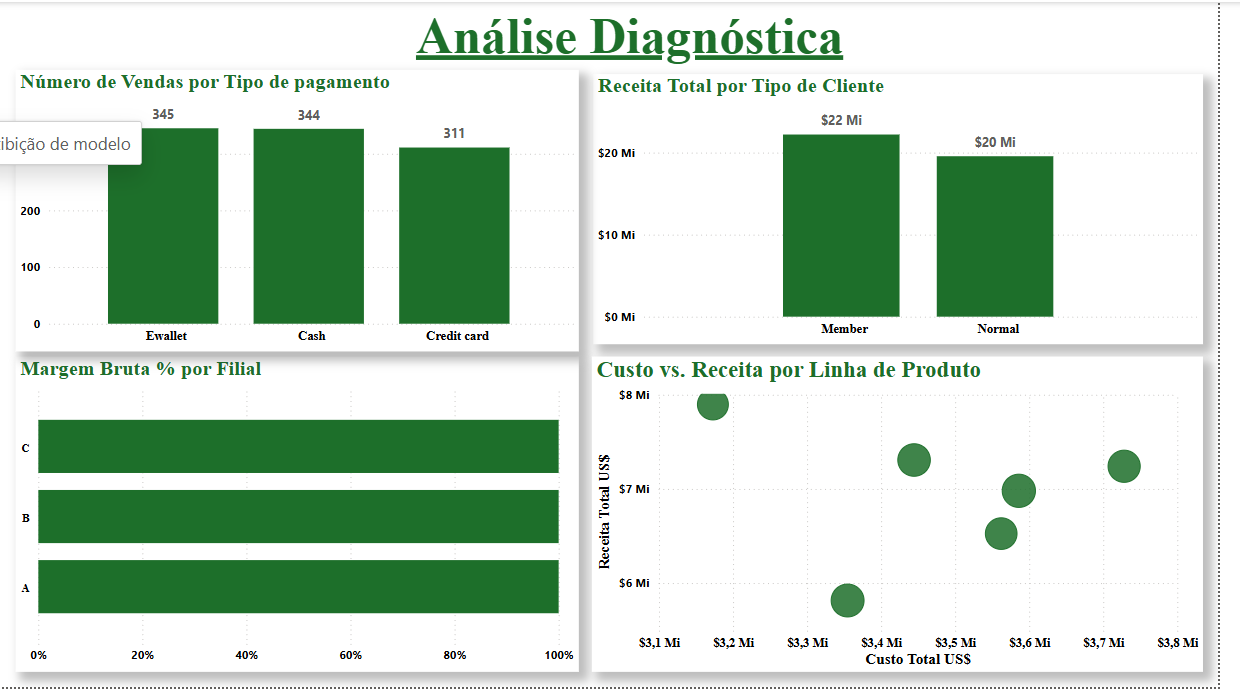

The dashboard page shown, as its layout file describes it:
{"tool":"powerbi","page":{"name":"Diagnóstica ","canvas":[1280,720],"ordinal":1},"visuals":[{"type":"textbox","box":[348.3,0,625.5,76.1],"z":0},{"type":"hundredPercentStackedBarChart","title":"Margem Bruta % por Filial","fields":{"Category":["dataset-IAN-Store.Filial"],"Y":["dataset-IAN-Store.MargemBrutaPct"]},"box":[16.9,371.9,591.7,331.3],"z":1000},{"type":"clusteredColumnChart","title":"Receita Total por Tipo de Cliente","fields":{"Category":["dataset-IAN-Store.TpoCliente"],"Y":["dataset-IAN-Store.ReceitaBrutaTotal"]},"box":[623.8,76.1,640.7,284],"z":2000},{"type":"clusteredColumnChart","title":"Número de Vendas por Tipo de pagamento","fields":{"Category":["dataset-IAN-Store.FormaPagamento"],"Y":["dataset-IAN-Store.NumeroVendas"]},"box":[16.9,71,591.7,295.8],"z":3000},{"type":"scatterChart","title":"Custo vs. Receita por Linha de Produto","fields":{"X":["dataset-IAN-Store.CustoTotal"],"Y":["dataset-IAN-Store.ReceitaBrutaTotal"],"Size":["dataset-IAN-Store.NumeroVendas"],"Category":["dataset-IAN-Store.LinhaProduto"]},"box":[622.1,371.9,642.4,331.3],"z":4000}]}

Visuals, with their boxes on the page's 1280x720 design canvas (x1, y1, x2, y2). These are canvas units, not pixel positions in the 1240x693 screenshot, which may show the page scaled, cropped or inside an application window:
textbox: <bbox>348, 0, 974, 76</bbox>
"Margem Bruta % por Filial" hundredPercentStackedBarChart: <bbox>17, 372, 609, 703</bbox>
"Receita Total por Tipo de Cliente" clusteredColumnChart: <bbox>624, 76, 1264, 360</bbox>
"Número de Vendas por Tipo de pagamento" clusteredColumnChart: <bbox>17, 71, 609, 367</bbox>
"Custo vs. Receita por Linha de Produto" scatterChart: <bbox>622, 372, 1264, 703</bbox>
